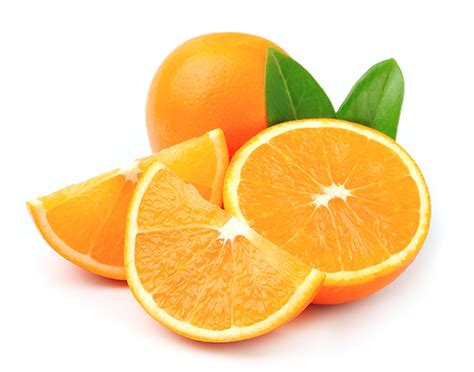orange: (142, 28, 319, 153)
